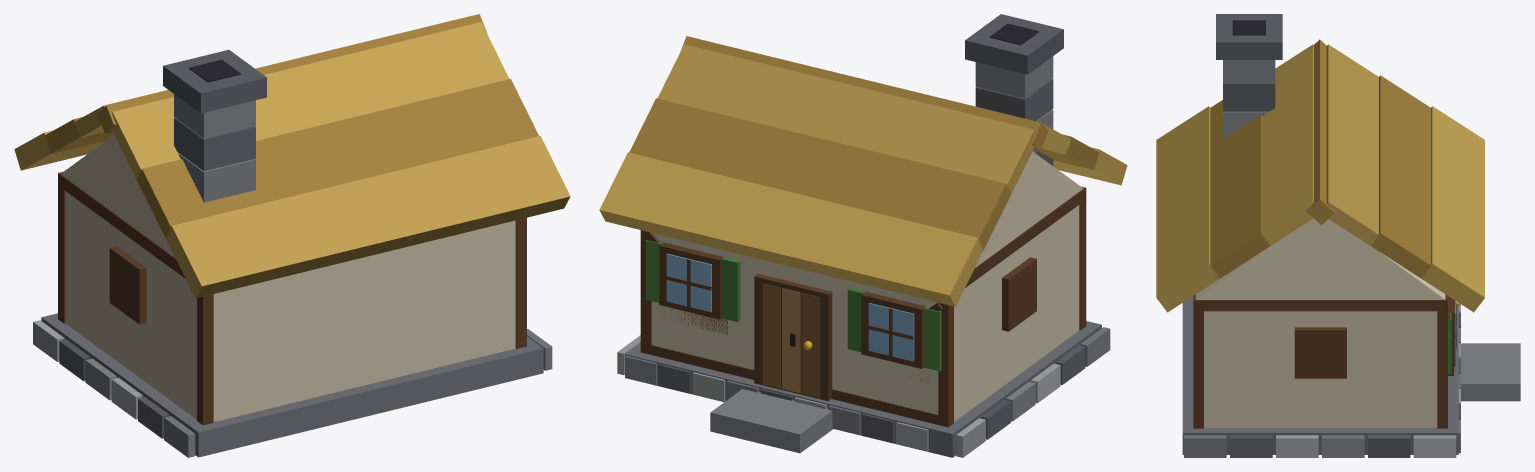
Rendered from Decor_Beanstalk_Cottage.fbx.
3 renders of one model, left to right at view 1: azimuth 30°, elevation 25°; view 2: azimuth 150°, elevation 25°; view 3: azimuth 270°, elevation 25°, orthographic. The views are drawn at different scales.
Parts seen in each view (by area): view 1: Cottage_Body; view 2: Cottage_Body; view 3: Cottage_Body.
Part boxes in pixels (x1,y1,x2,y2): Cottage_Body: (14, 14, 570, 457); Cottage_Body: (599, 14, 1127, 457); Cottage_Body: (1156, 14, 1520, 457).
Bounding box in the file's own units: 15.6 × 13.8 × 15.02.
